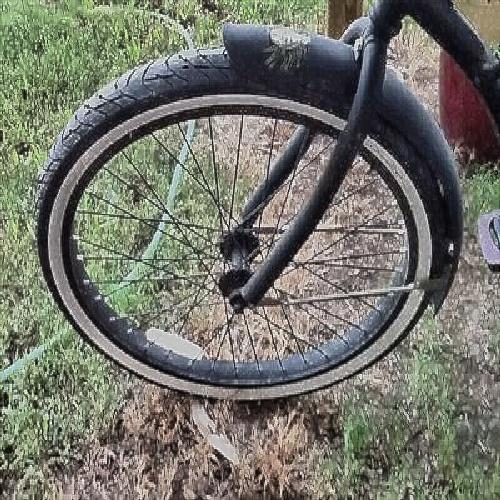bicycle: (58, 51, 449, 394)
